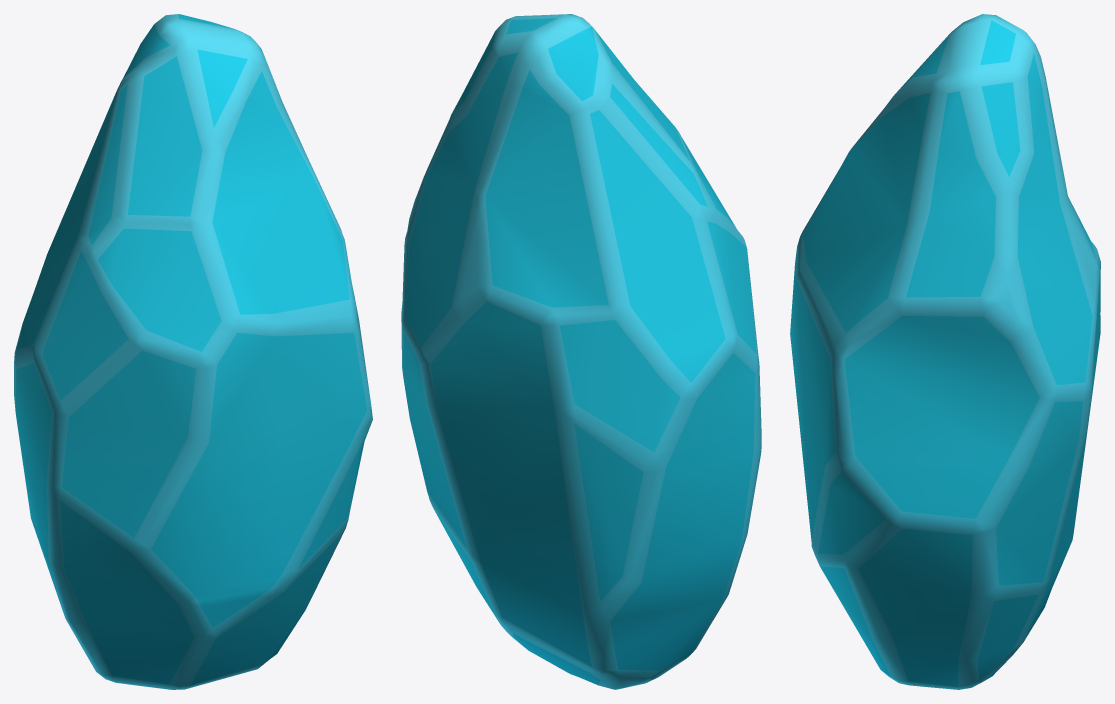
The model's file is ice_020.fbx.
3 renders of one model, left to right at view 1: azimuth 30°, elevation 25°; view 2: azimuth 150°, elevation 25°; view 3: azimuth 270°, elevation 25°, orthographic. The views are drawn at different scales.
Parts seen in each view (by area): view 1: ice_020; view 2: ice_020; view 3: ice_020.
Part boxes in pixels (x1,y1,x2,y2): ice_020: [14, 14, 372, 689]; ice_020: [401, 14, 761, 689]; ice_020: [790, 14, 1100, 689].
Size of the model in its own units: 335 by 283 by 661.
